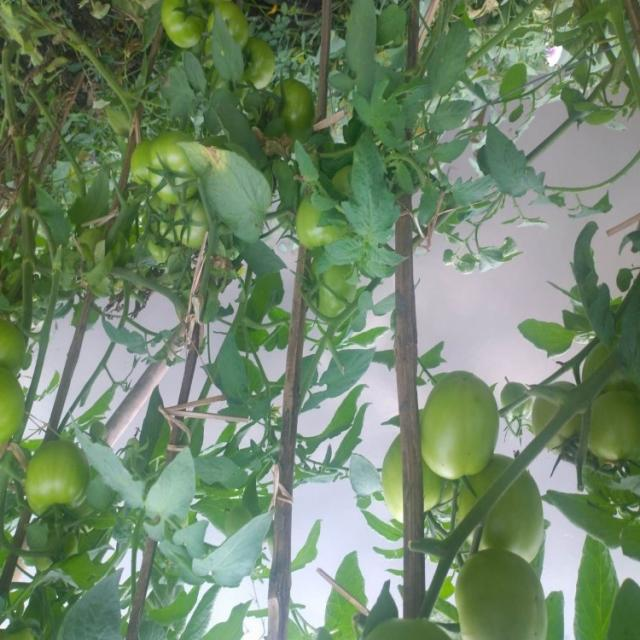tomato: (433, 522, 559, 640), (401, 353, 507, 476), (435, 445, 546, 561), (358, 429, 455, 524), (581, 374, 640, 489), (16, 440, 102, 518), (252, 63, 328, 139), (141, 133, 207, 202), (302, 265, 365, 336), (158, 1, 229, 64), (293, 196, 362, 260), (527, 381, 573, 465), (172, 195, 227, 252), (232, 36, 284, 95), (195, 1, 255, 44), (1, 372, 35, 445), (1, 318, 30, 381)
